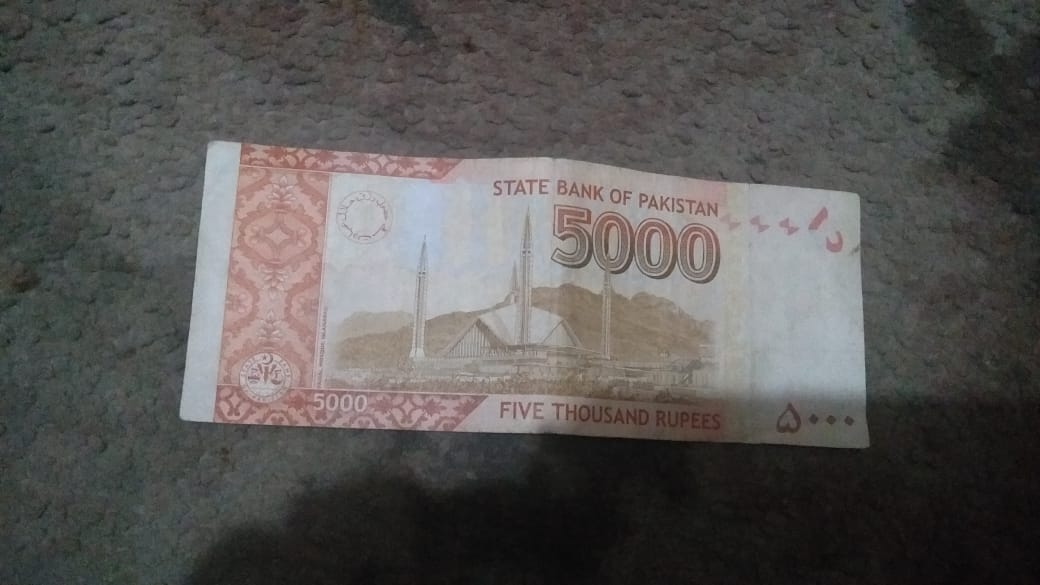5000 rupee: (184, 128, 887, 461)
